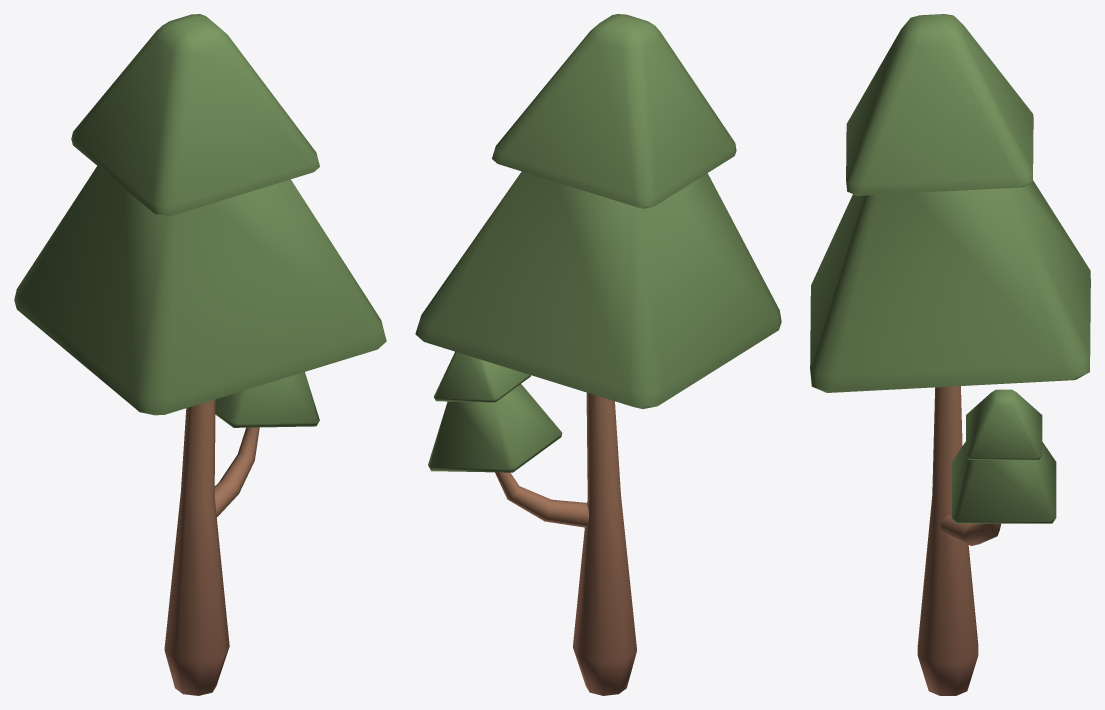
Rendered from meadow-tree-slender.glb.
The picture shows the model from 3 angles, left to right: view 1: azimuth 30°, elevation 25°; view 2: azimuth 150°, elevation 25°; view 3: azimuth 270°, elevation 25°; orthographic projection.
Parts seen in each view (by area): view 1: Meadow slender; view 2: Meadow slender; view 3: Meadow slender.
Boxes of the visible parts, x1=… form: Meadow slender: x1=14, y1=14, x2=386, y2=695; Meadow slender: x1=415, y1=14, x2=781, y2=695; Meadow slender: x1=810, y1=14, x2=1090, y2=695.
Size of the model in its own units: 2.01 by 5.27 by 2.
